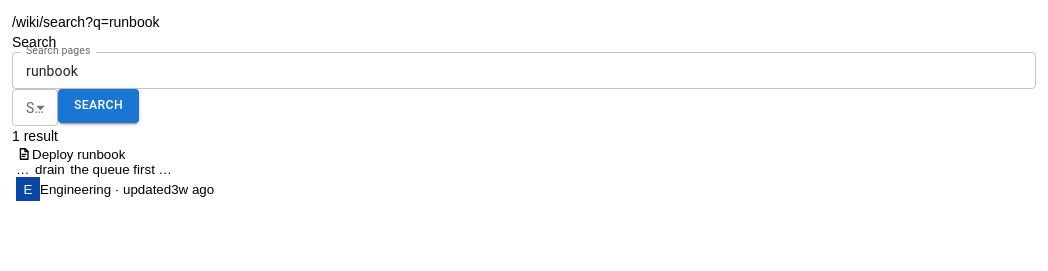
it: JL-113 space filter › puts the chosen space in the URL, so a filtered list is linkable too
expect the text "Deploy runbook" is shown: met, box [32, 147, 125, 162]
Press the mouse on the dropdown named "Space" at (35, 108), box [12, 89, 58, 126]
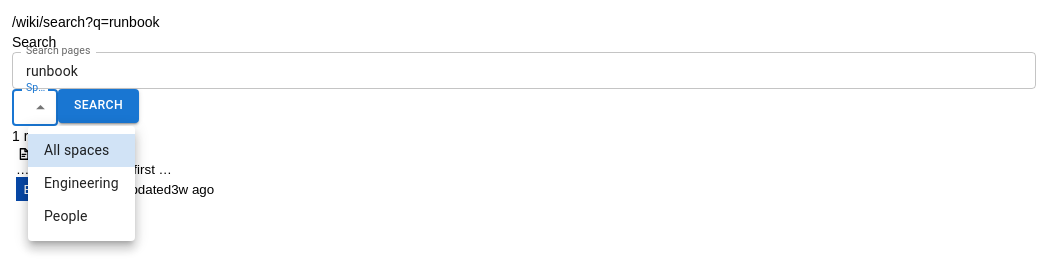
Click the option "People" at (66, 216), box [44, 208, 88, 224]
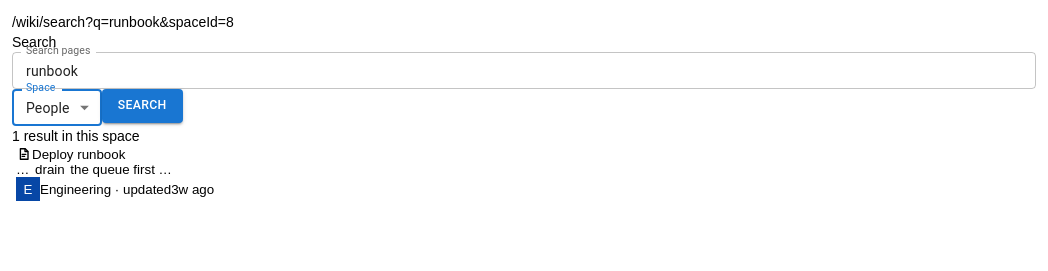
expect the text with test id "url" shows "spaceId=8": met, box [12, 14, 234, 30]
